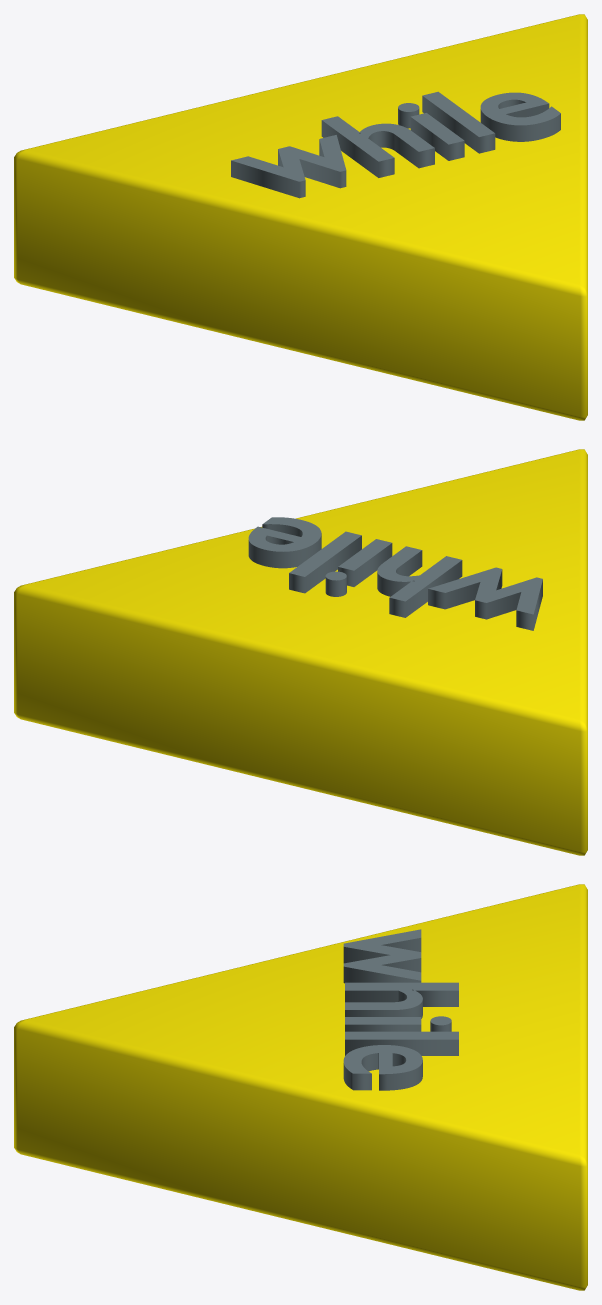
File: while.fbx
The picture shows the model from 3 angles, top to bottom: view 1: azimuth 30°, elevation 25°; view 2: azimuth 150°, elevation 25°; view 3: azimuth 270°, elevation 25°; orthographic projection.
Parts seen in each view (by area): view 1: While_Base, While_Text; view 2: While_Base, While_Text; view 3: While_Base, While_Text.
Boxes of the visible parts, x1,y1,x2,y2 form: While_Base: (14,14,587,420); While_Text: (231,91,560,198); While_Base: (14,449,587,855); While_Text: (248,517,542,630); While_Base: (14,884,587,1290); While_Text: (343,929,458,1090).
Bounding box in the file's own units: 309 × 78.5 × 268.
